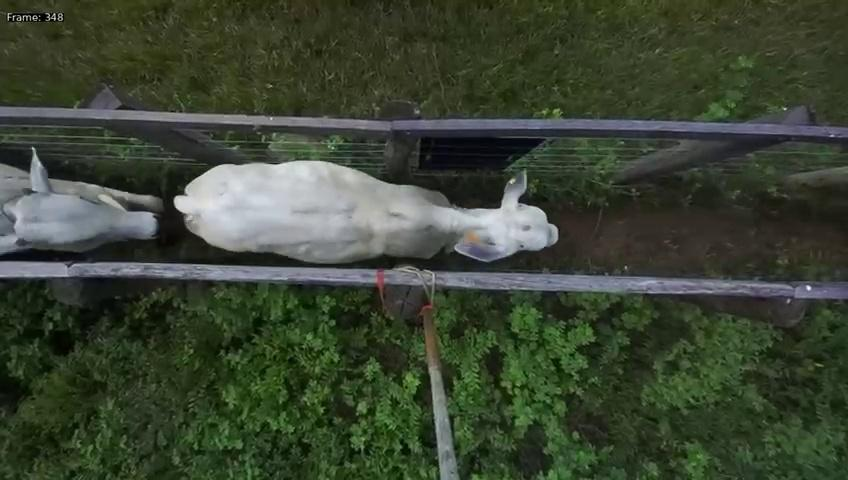cattle: (170, 133, 561, 267)
